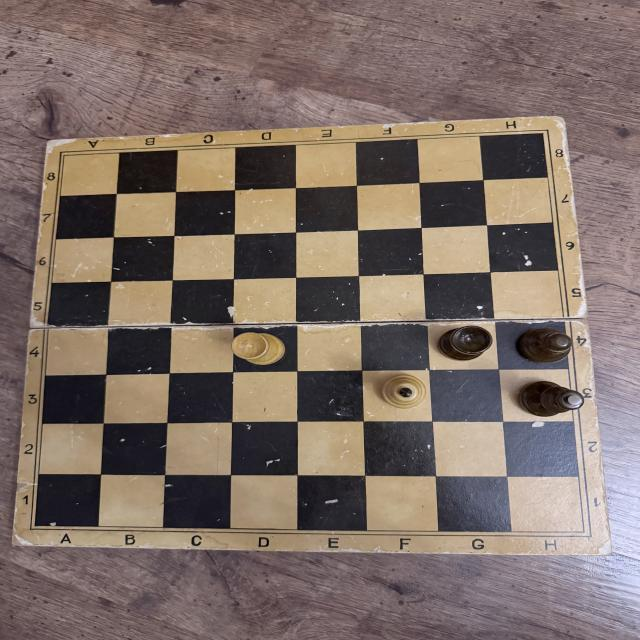black-king: (515, 379, 586, 418)
black-pawn: (516, 327, 572, 365)
black-rook: (437, 325, 492, 362)
white-king: (378, 374, 429, 409)
white-rook: (230, 330, 288, 366)
